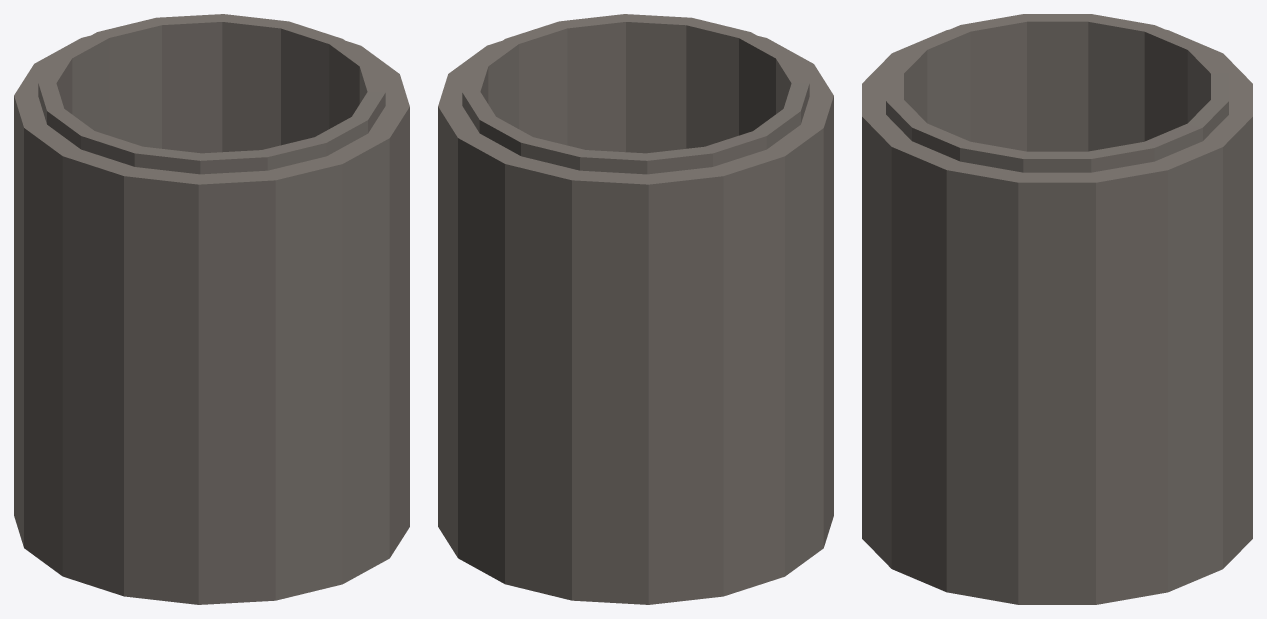
Rendered from Concrete_Pipe_Small.fbx.
The picture shows the model from 3 angles, left to right: view 1: azimuth 30°, elevation 25°; view 2: azimuth 150°, elevation 25°; view 3: azimuth 270°, elevation 25°; orthographic projection.
Parts seen in each view (by area): view 1: Concrete_Pipe_Small; view 2: Concrete_Pipe_Small; view 3: Concrete_Pipe_Small.
Boxes of the visible parts, x1,y1,x2,y2 form: Concrete_Pipe_Small: (14,14,409,604); Concrete_Pipe_Small: (438,14,833,604); Concrete_Pipe_Small: (862,14,1252,604).
Size of the model in its own units: 1.46 by 1.79 by 1.46.
